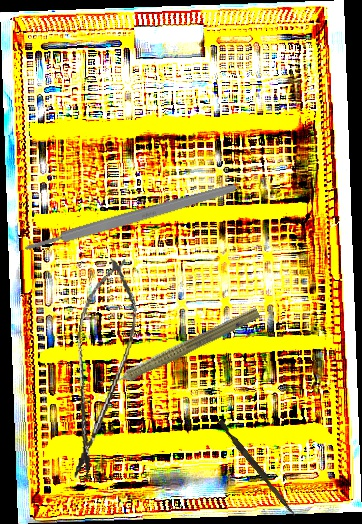Handpiece: (96, 300, 262, 397)
Micro Scissor: (55, 253, 146, 484)
Pusher: (215, 419, 300, 517)
Scalpel Handle: (23, 181, 238, 254)
